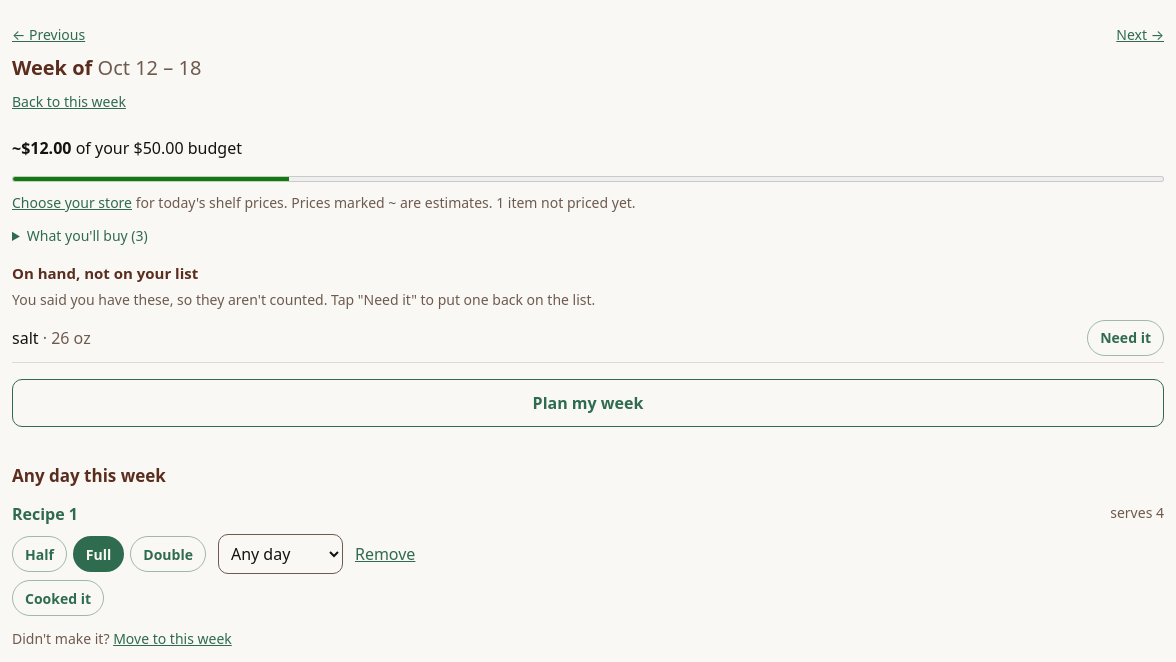
Scenario: plan my week (TYL-65) › drafts the week with reasons, and adds it
The width and height of the screenshot is (1176, 662).
Click the button "Plan my week" at {"x": 588, "y": 402}, box [12, 378, 1164, 426]
(page scrolled)
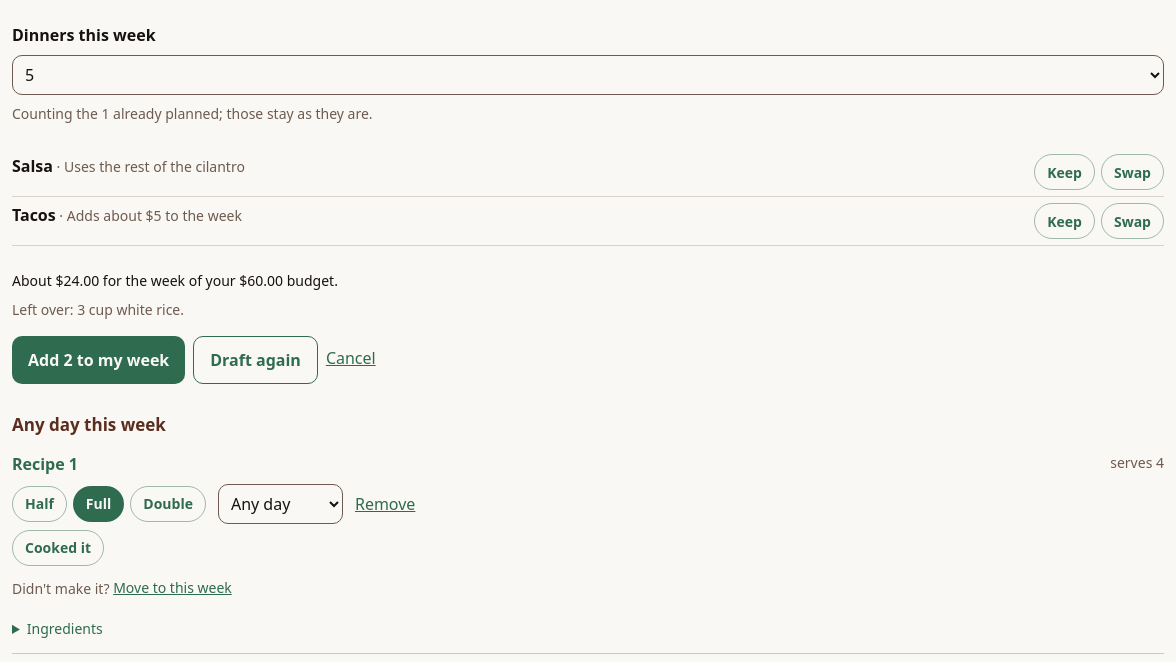
Expected: the text "· Uses the rest of the cilantro" is shown, [53, 157, 245, 176]
Expected: the text "About $24.00 for the week of your $60.00 budget." is shown, [12, 271, 338, 290]
Expected: the text "Left over: 3 cup white rice." is shown, [12, 300, 184, 319]
Click the button "Add 2 to my week" at {"x": 99, "y": 360}, box [12, 336, 185, 384]
(page scrolled)
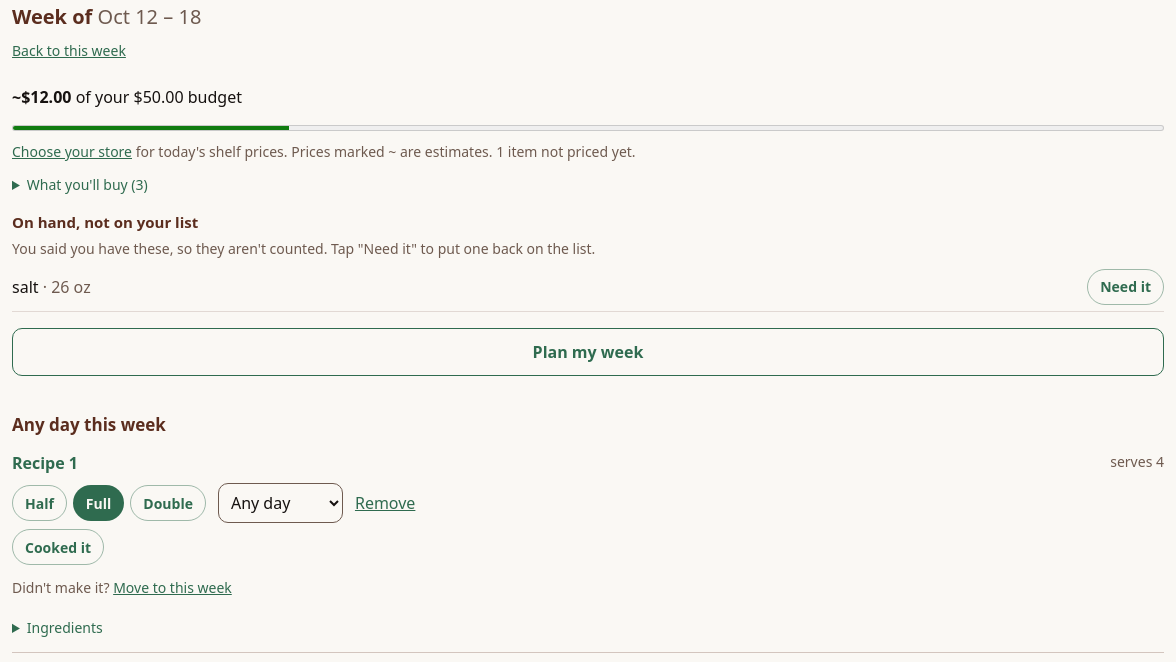
Expected: the button "Plan my week" is shown, [12, 328, 1164, 376]
